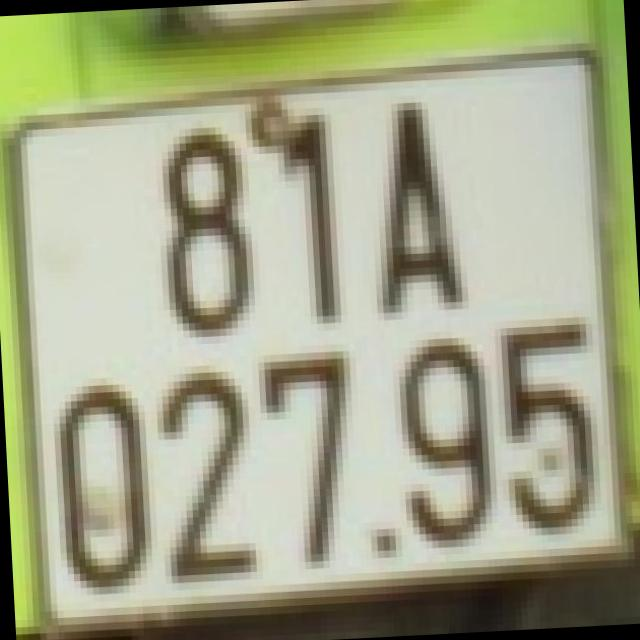0: (33, 362, 154, 590)
1: (249, 103, 347, 337)
2: (136, 349, 258, 577)
5: (481, 303, 602, 523)
7: (244, 336, 360, 564)
8: (135, 104, 250, 326)
9: (378, 315, 492, 536)
A: (342, 86, 464, 314)
